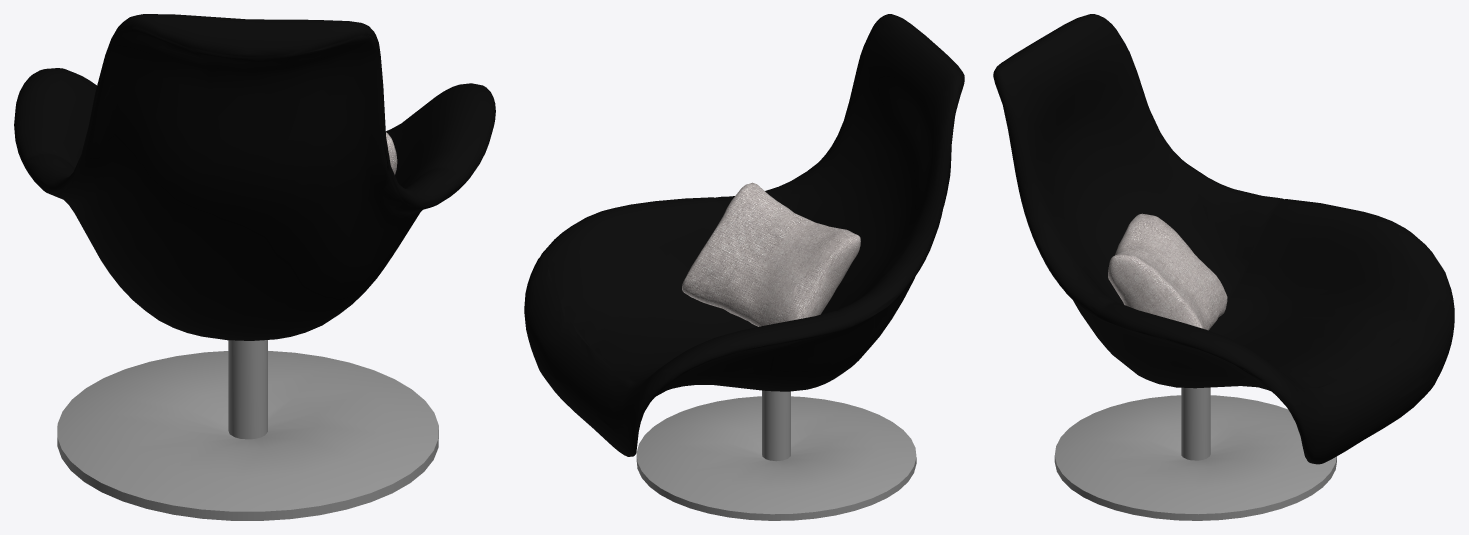
Rendered from Chair.FBX.
3 renders of one model, left to right at view 1: azimuth 30°, elevation 25°; view 2: azimuth 150°, elevation 25°; view 3: azimuth 270°, elevation 25°, orthographic. The views are drawn at different scales.
Visible parts, largest first — view 1: Chair; view 2: Chair, Pillow; view 3: Chair, Pillow.
Boxes of the visible parts, x1,y1,x2,y2 form: Chair: [14, 14, 495, 520]; Chair: [524, 14, 964, 520]; Pillow: [682, 182, 860, 326]; Chair: [993, 14, 1454, 520]; Pillow: [1108, 213, 1227, 330].
Size of the model in its own units: 1211 by 1383 by 1271.
Materials: 3 (1 with a texture image).
